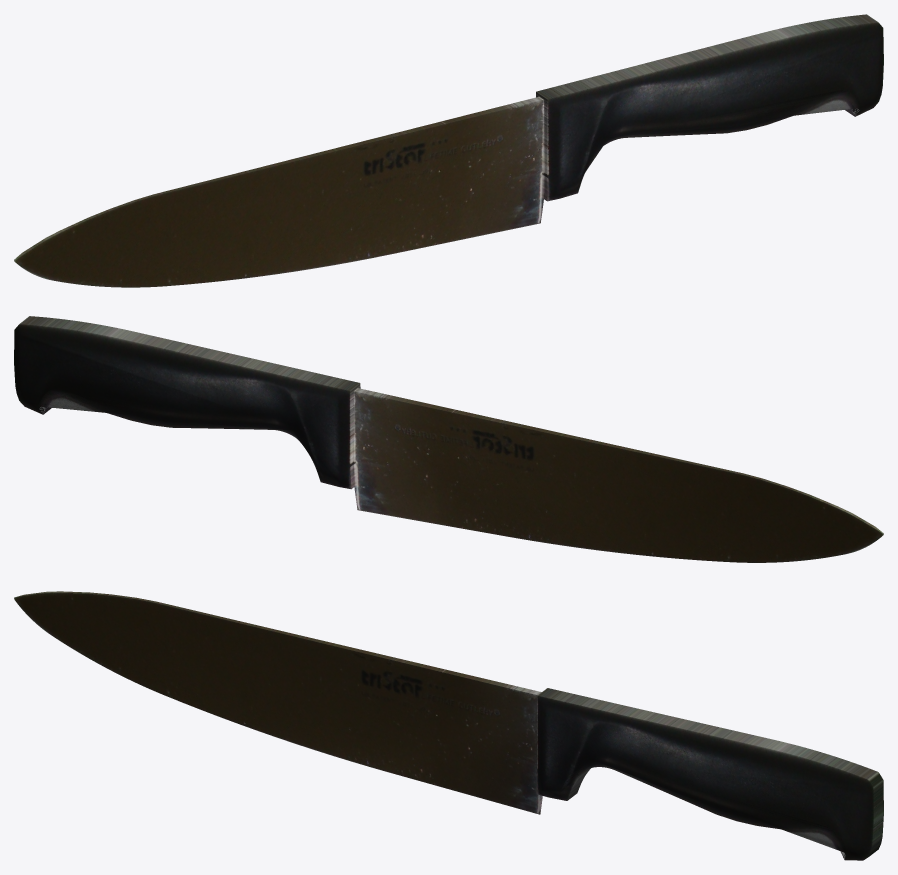
File: knife.fbx
3 views of the same model, one above another, from view 1: azimuth 30°, elevation 25°; view 2: azimuth 150°, elevation 25°; view 3: azimuth 330°, elevation 25° (orthographic). The views are drawn at different scales.
Parts seen in each view (by area): view 1: Cake_Knife1; view 2: Cake_Knife1; view 3: Cake_Knife1.
Part boxes in pixels (bbox=[...]): Cake_Knife1: bbox=[14, 14, 883, 287]; Cake_Knife1: bbox=[14, 316, 883, 562]; Cake_Knife1: bbox=[14, 591, 883, 860].
Size of the model in its own units: 6.61 by 0.9219 by 0.2955.
